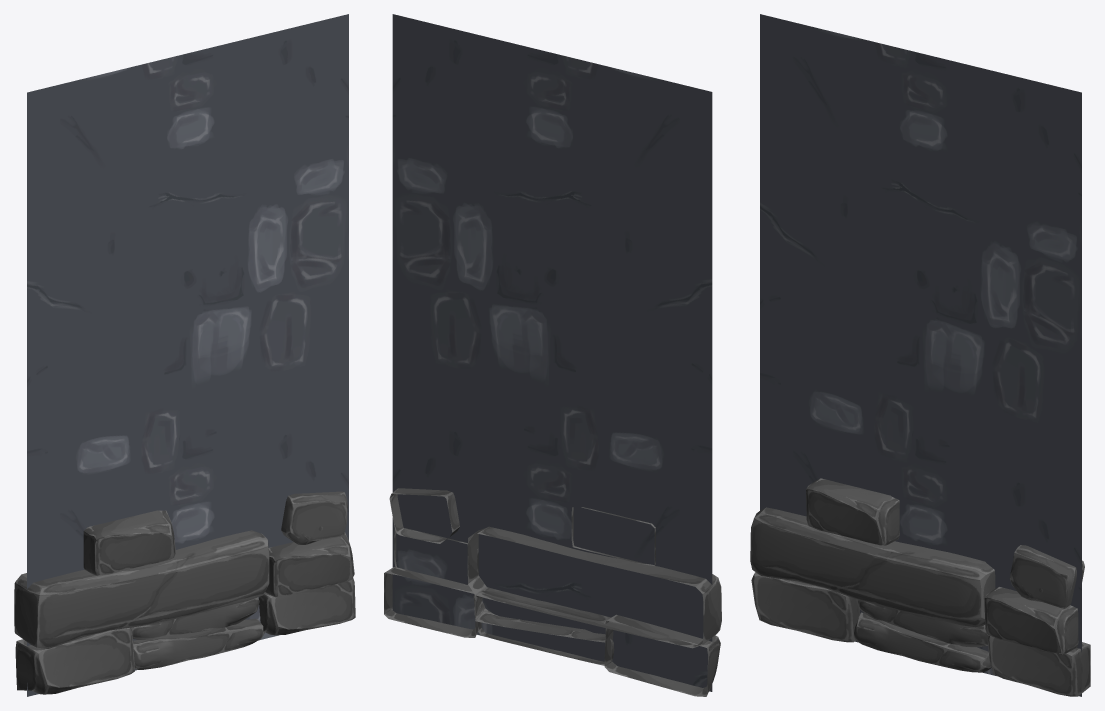
The model's file is Wall simple mitad rocks.fbx.
3 views of the same model, side by side, from view 1: azimuth 30°, elevation 25°; view 2: azimuth 150°, elevation 25°; view 3: azimuth 330°, elevation 25° (orthographic).
Parts seen in each view (by area): view 1: WALL_SIMPLLE__2; view 2: WALL_SIMPLLE__2; view 3: WALL_SIMPLLE__2.
Part boxes in pixels (left/top/right/bottom): WALL_SIMPLLE__2: left=14, top=14, right=355, bottom=696; WALL_SIMPLLE__2: left=384, top=14, right=721, bottom=696; WALL_SIMPLLE__2: left=750, top=14, right=1090, bottom=696.
Size of the model in its own units: 7.1 by 12.57 by 0.9712.
